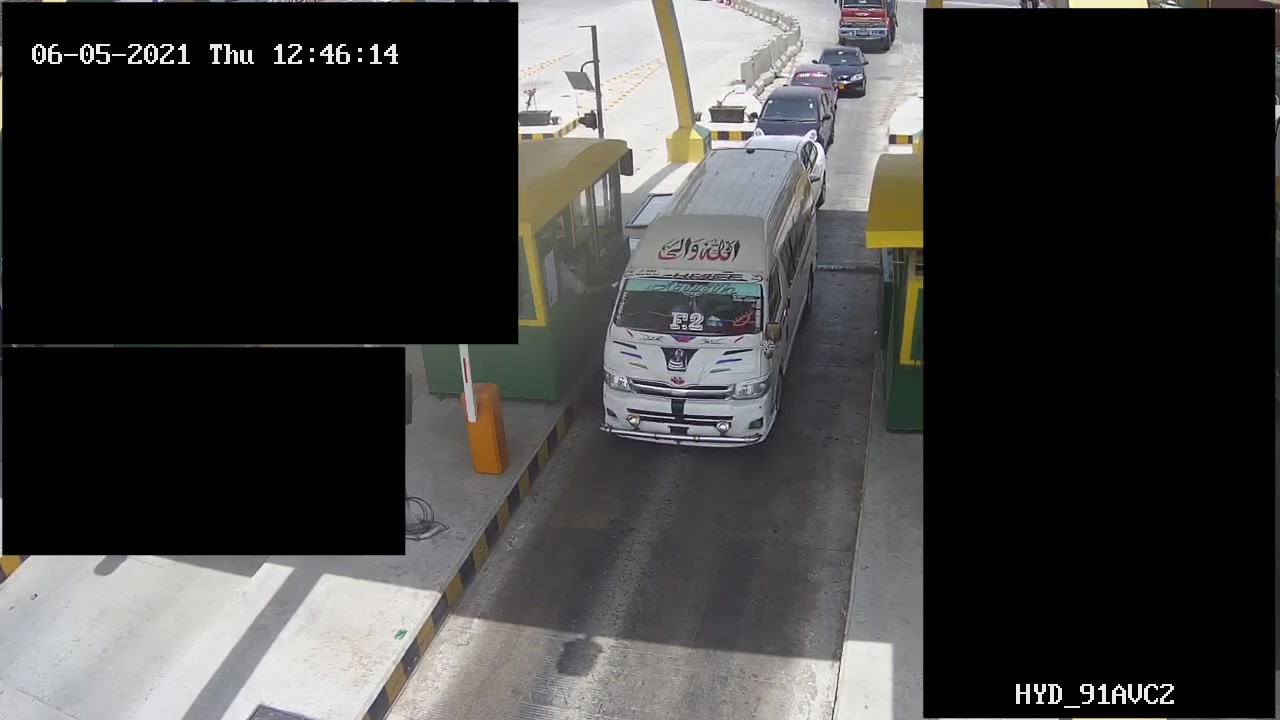F2: (595, 143, 825, 459)
